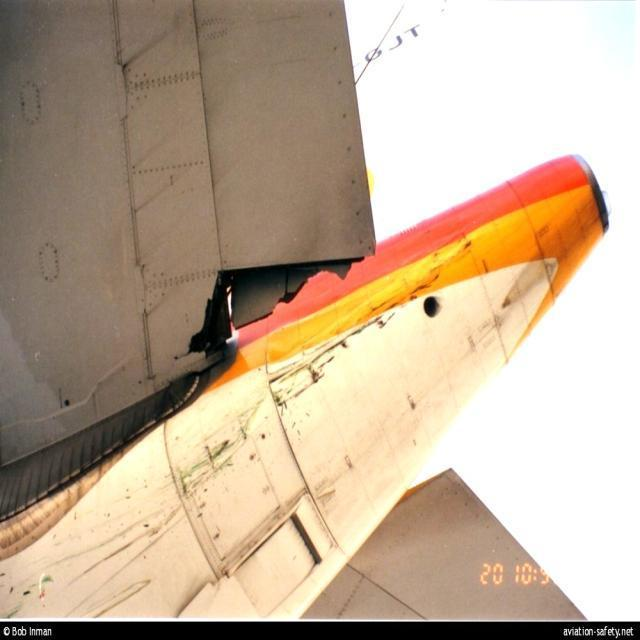crack: (193, 263, 347, 370)
